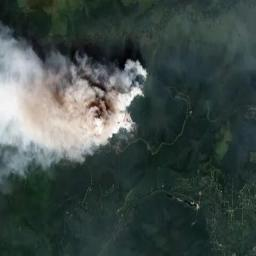Heavy smoke: (0, 18, 150, 185)
